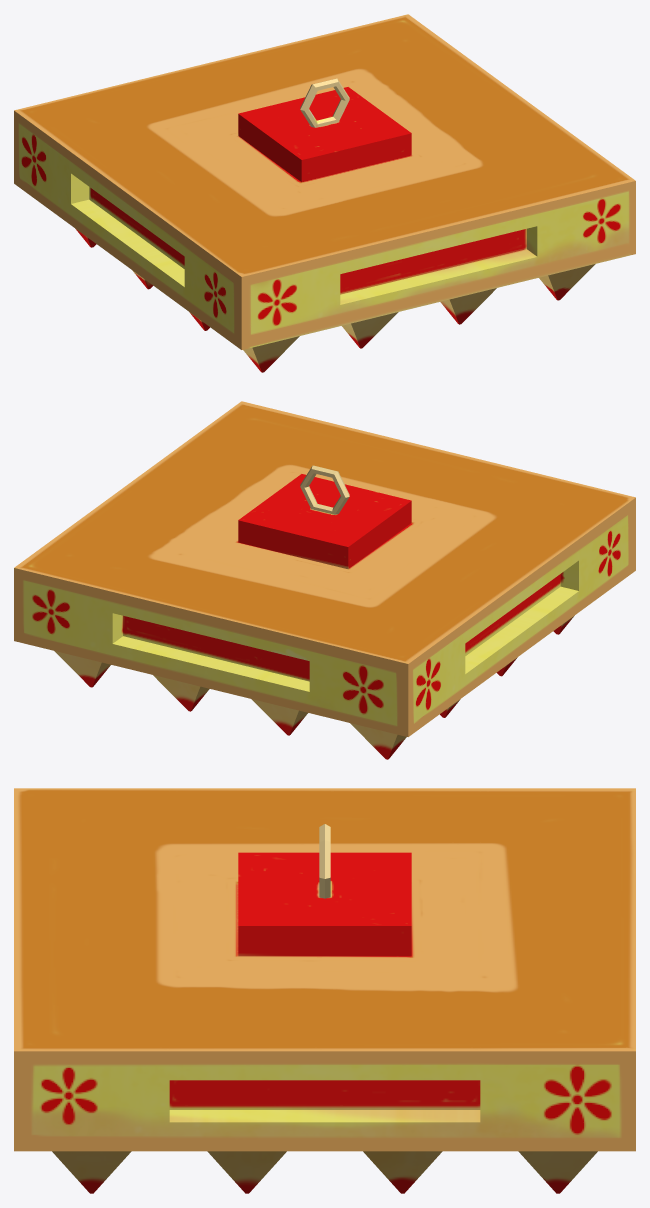
File: crusher 1.fbx
3 views of the same model, one above another, from view 1: azimuth 30°, elevation 25°; view 2: azimuth 150°, elevation 25°; view 3: azimuth 270°, elevation 25° (orthographic). The views are drawn at different scales.
Visible parts, largest first — view 1: polySurface33, polySurface32; view 2: polySurface33, polySurface32; view 3: polySurface33, polySurface32.
Part boxes in pixels (x1=…): polySurface33: x1=14, y1=14, x2=635, y2=372; polySurface32: x1=300, y1=78, x2=349, y2=127; polySurface33: x1=14, y1=401, x2=635, y2=759; polySurface32: x1=300, y1=465, x2=349, y2=514; polySurface33: x1=14, y1=788, x2=635, y2=1193; polySurface32: x1=319, y1=824, x2=330, y2=898.
Size of the model in its own units: 7.18 by 3.34 by 7.18.
Materials: 1 (1 with a texture image).
